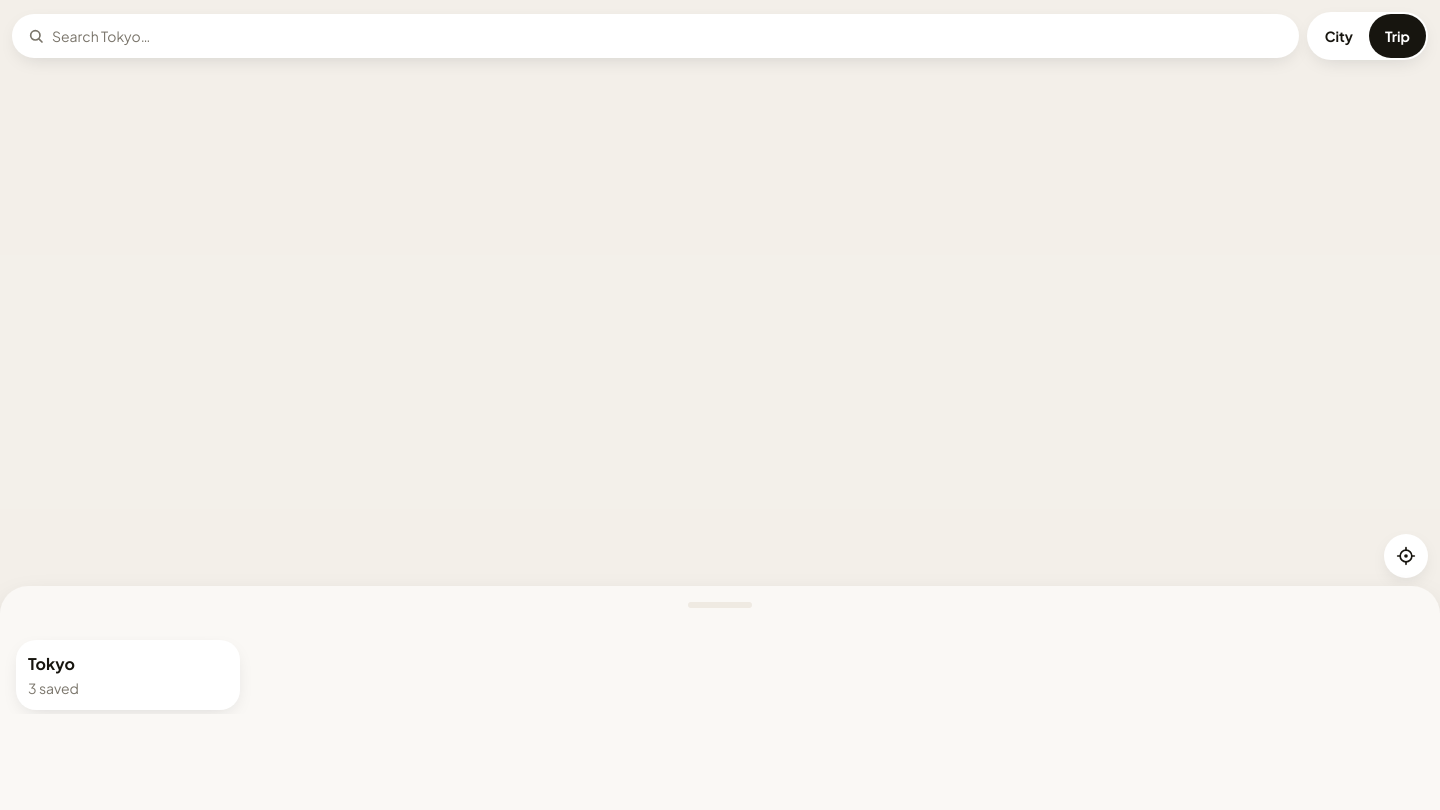
Test: the count › is stated on the map, without scrolling anything
Click the button "City". click: (1339, 36)
box: [1309,14,1369,58]
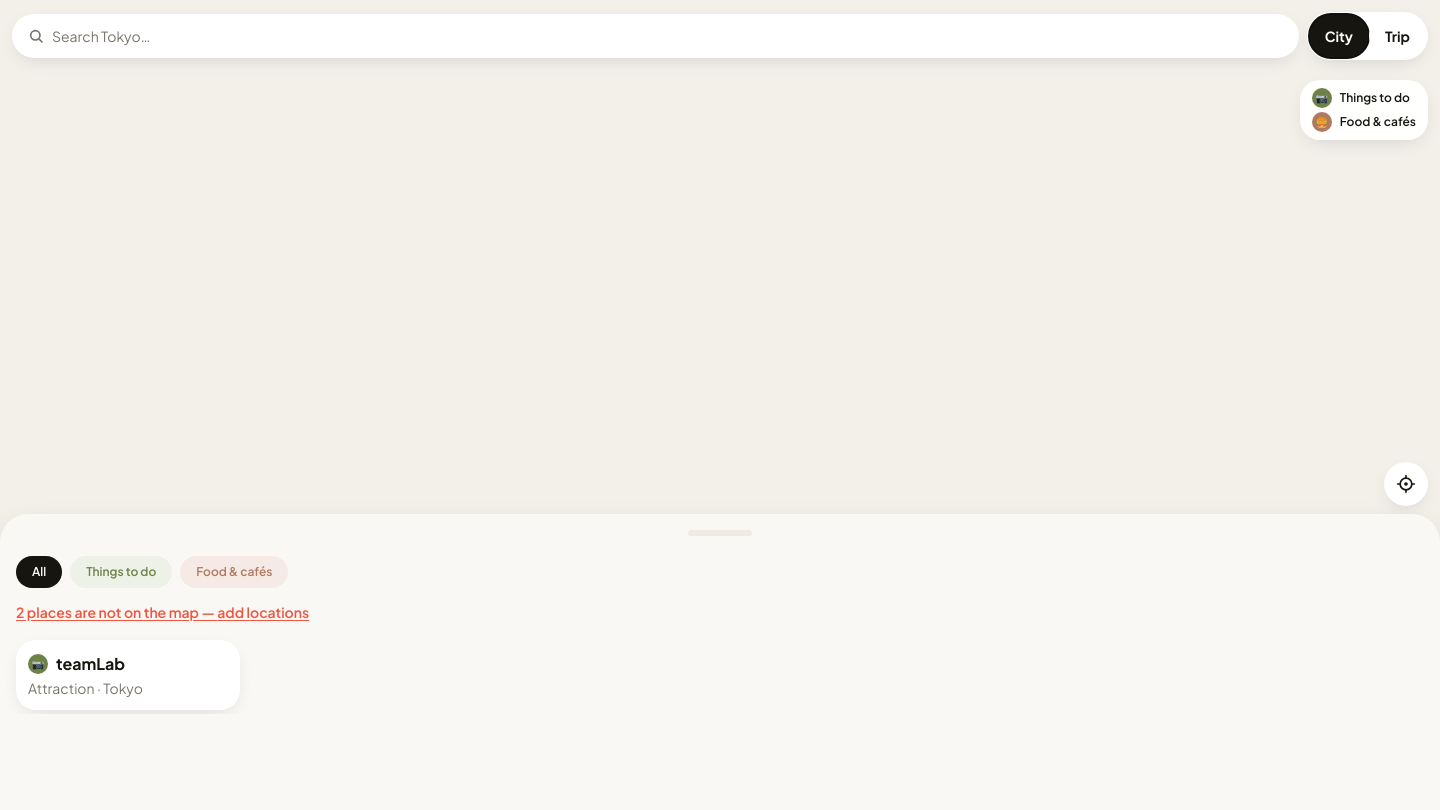
Expected: the button "2 places are not on the map — add locations" is shown, [16,602,309,622]
